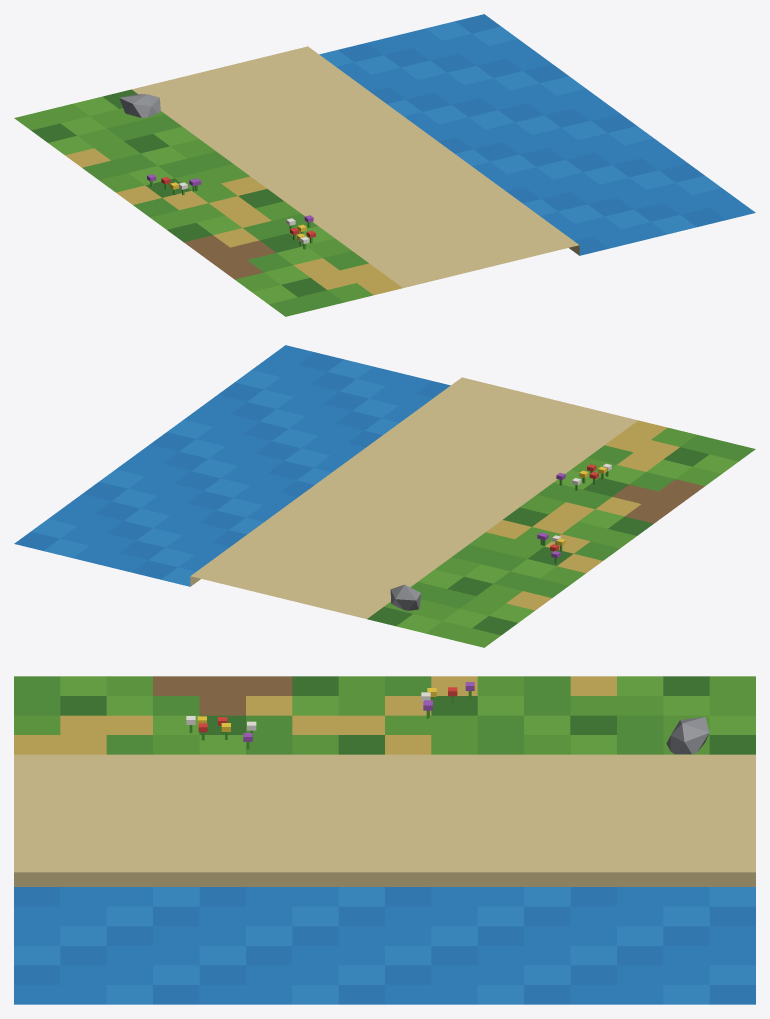
The model's file is chunk_11_11.glb.
3 views of the same model, one above another, from view 1: azimuth 30°, elevation 25°; view 2: azimuth 150°, elevation 25°; view 3: azimuth 270°, elevation 25° (orthographic). The views are drawn at different scales.
Parts seen in each view (by area): view 1: chunk_11_11; view 2: chunk_11_11; view 3: chunk_11_11.
Boxes of the visible parts, x1,y1,x2,y2 form: chunk_11_11: [14, 14, 755, 316]; chunk_11_11: [14, 345, 755, 647]; chunk_11_11: [14, 676, 755, 1004].
Size of the model in its own units: 16 by 0.9209 by 16.
